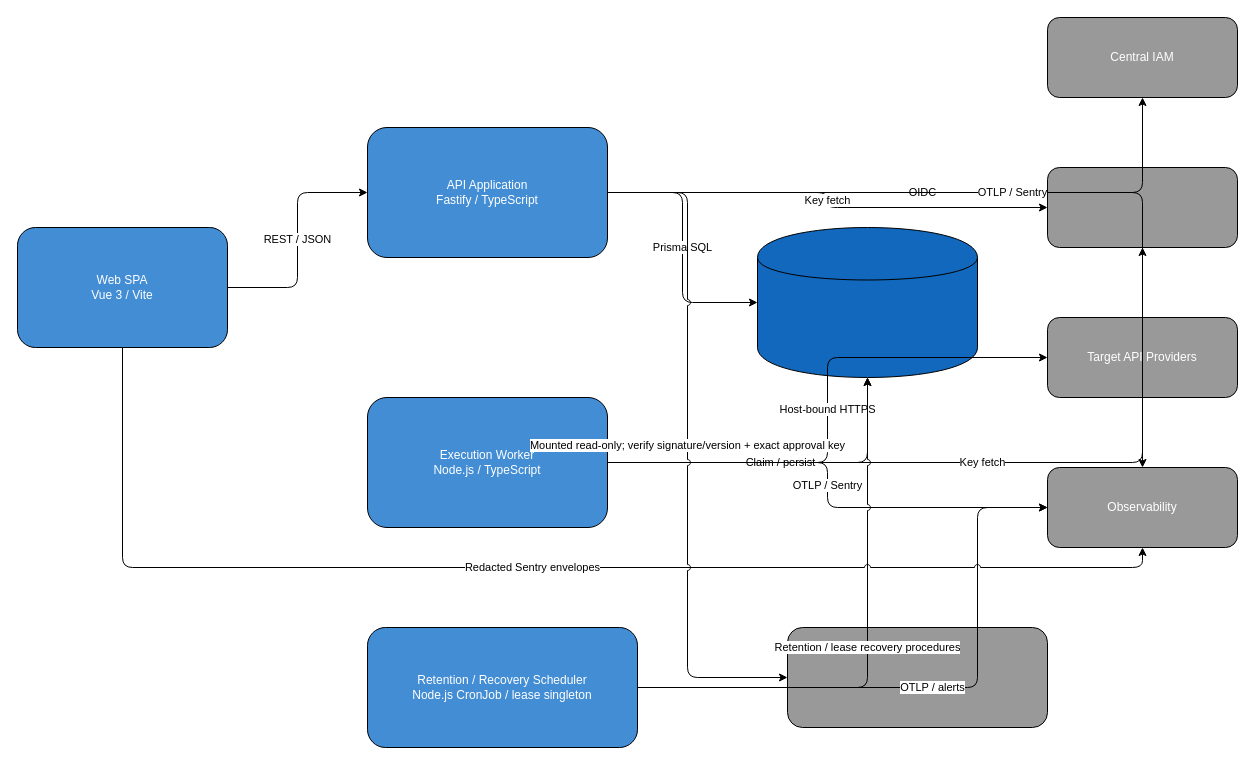
Some shapes in this 1255 by 765 pixel diagram are drawn without their labels. The shapes that lost their labels are listed below. From the top down, each one's box as (x1, y1, x2, y2) in pixels, then its label:
(1046, 166, 1238, 248): Secret Manager
(756, 226, 978, 378): MySQL / InnoDB authoritative state + jobs
(786, 626, 1048, 728): Signed Approved Address Set Manifest Read-only deployment artifact
